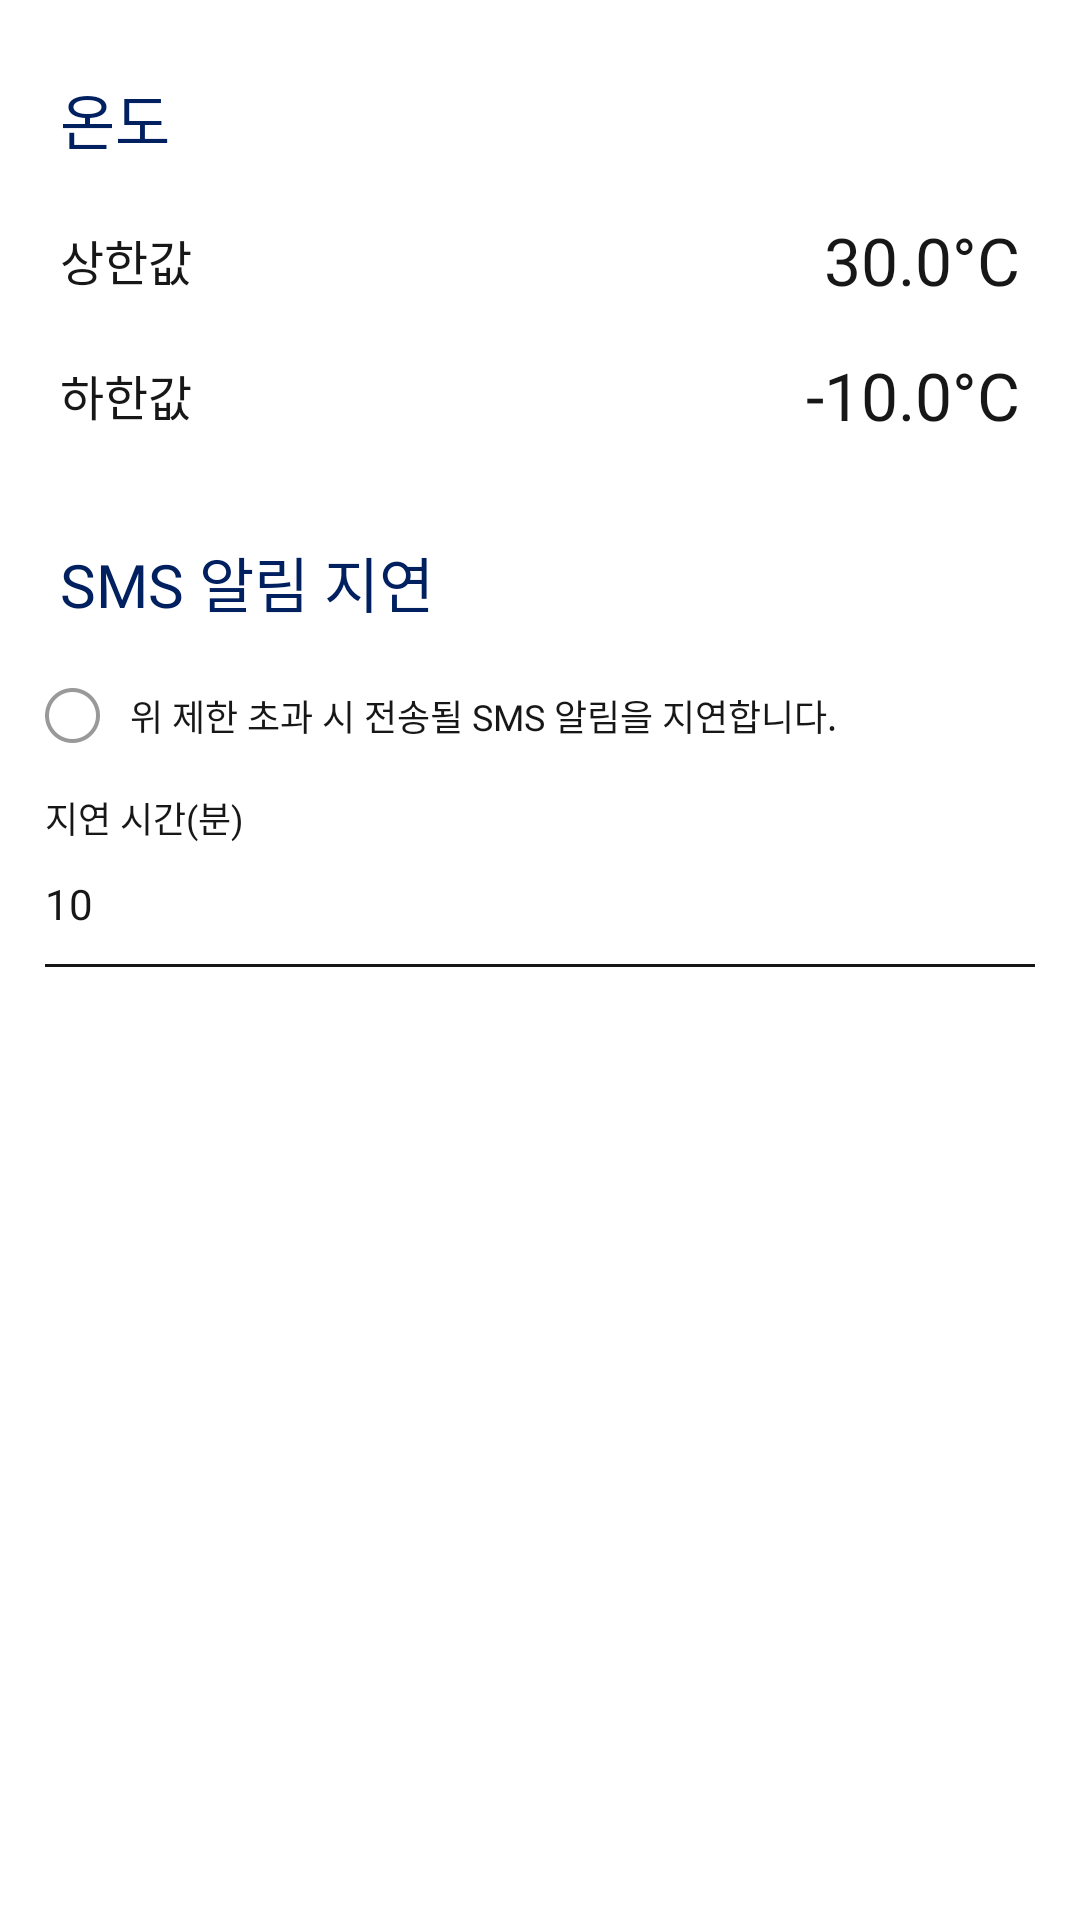

Point at icon controls on the screen. Image size 1080×1920, points as point (x, y).
option off: point (72, 715)
